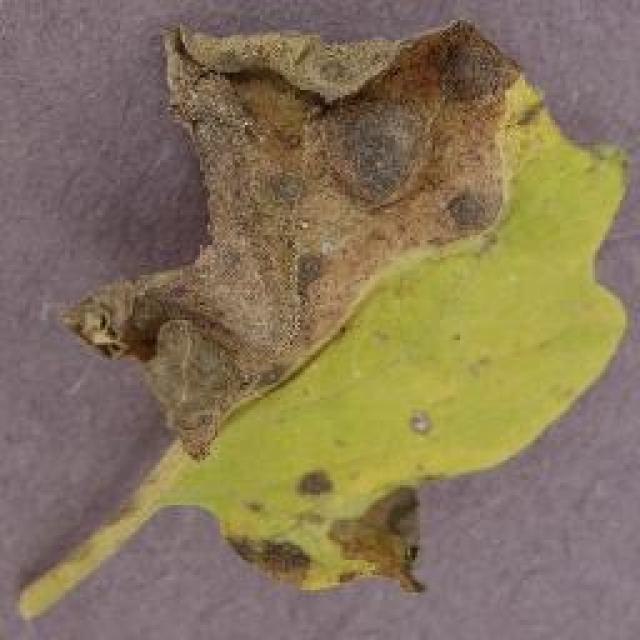Tomato___Septoria_leaf_spot: (22, 20, 625, 615)
